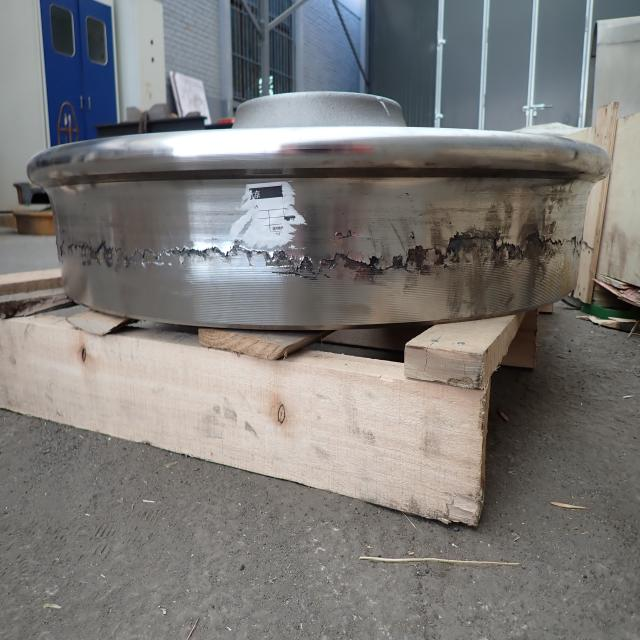Contact_Fatigue_Cracks: (118, 243, 165, 266), (228, 239, 259, 260), (548, 234, 579, 249), (62, 238, 82, 257), (273, 271, 296, 278), (384, 268, 392, 273), (317, 267, 322, 275)
Peeling: (447, 231, 499, 265), (339, 254, 382, 285), (169, 249, 225, 261), (526, 231, 545, 264), (408, 246, 429, 275), (263, 253, 293, 270), (85, 244, 102, 265), (298, 257, 316, 276), (504, 243, 522, 261), (334, 231, 356, 241), (105, 245, 115, 266), (436, 249, 447, 268), (323, 257, 339, 270), (392, 256, 405, 270)
